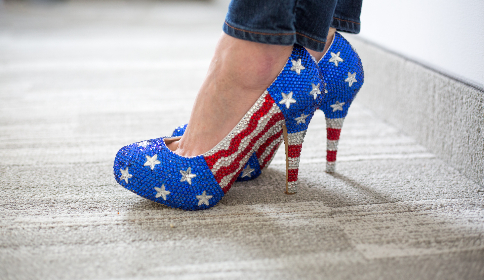Footwear: (99, 39, 326, 210), (319, 40, 359, 200)
